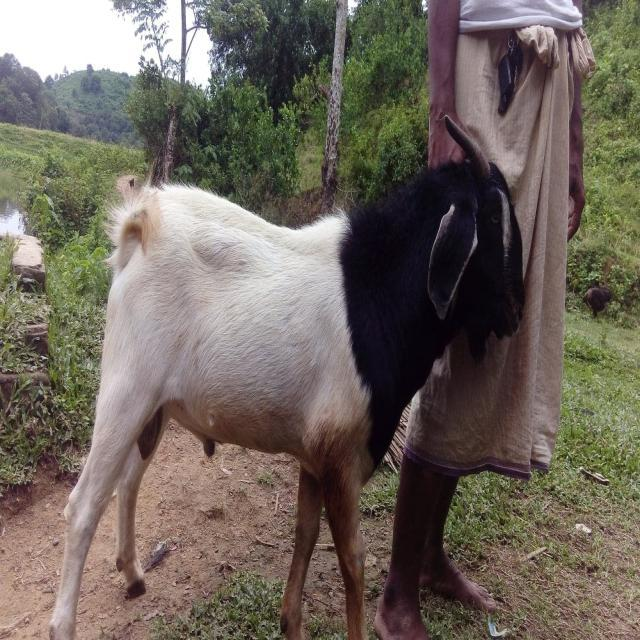Goat: (48, 113, 526, 639)
